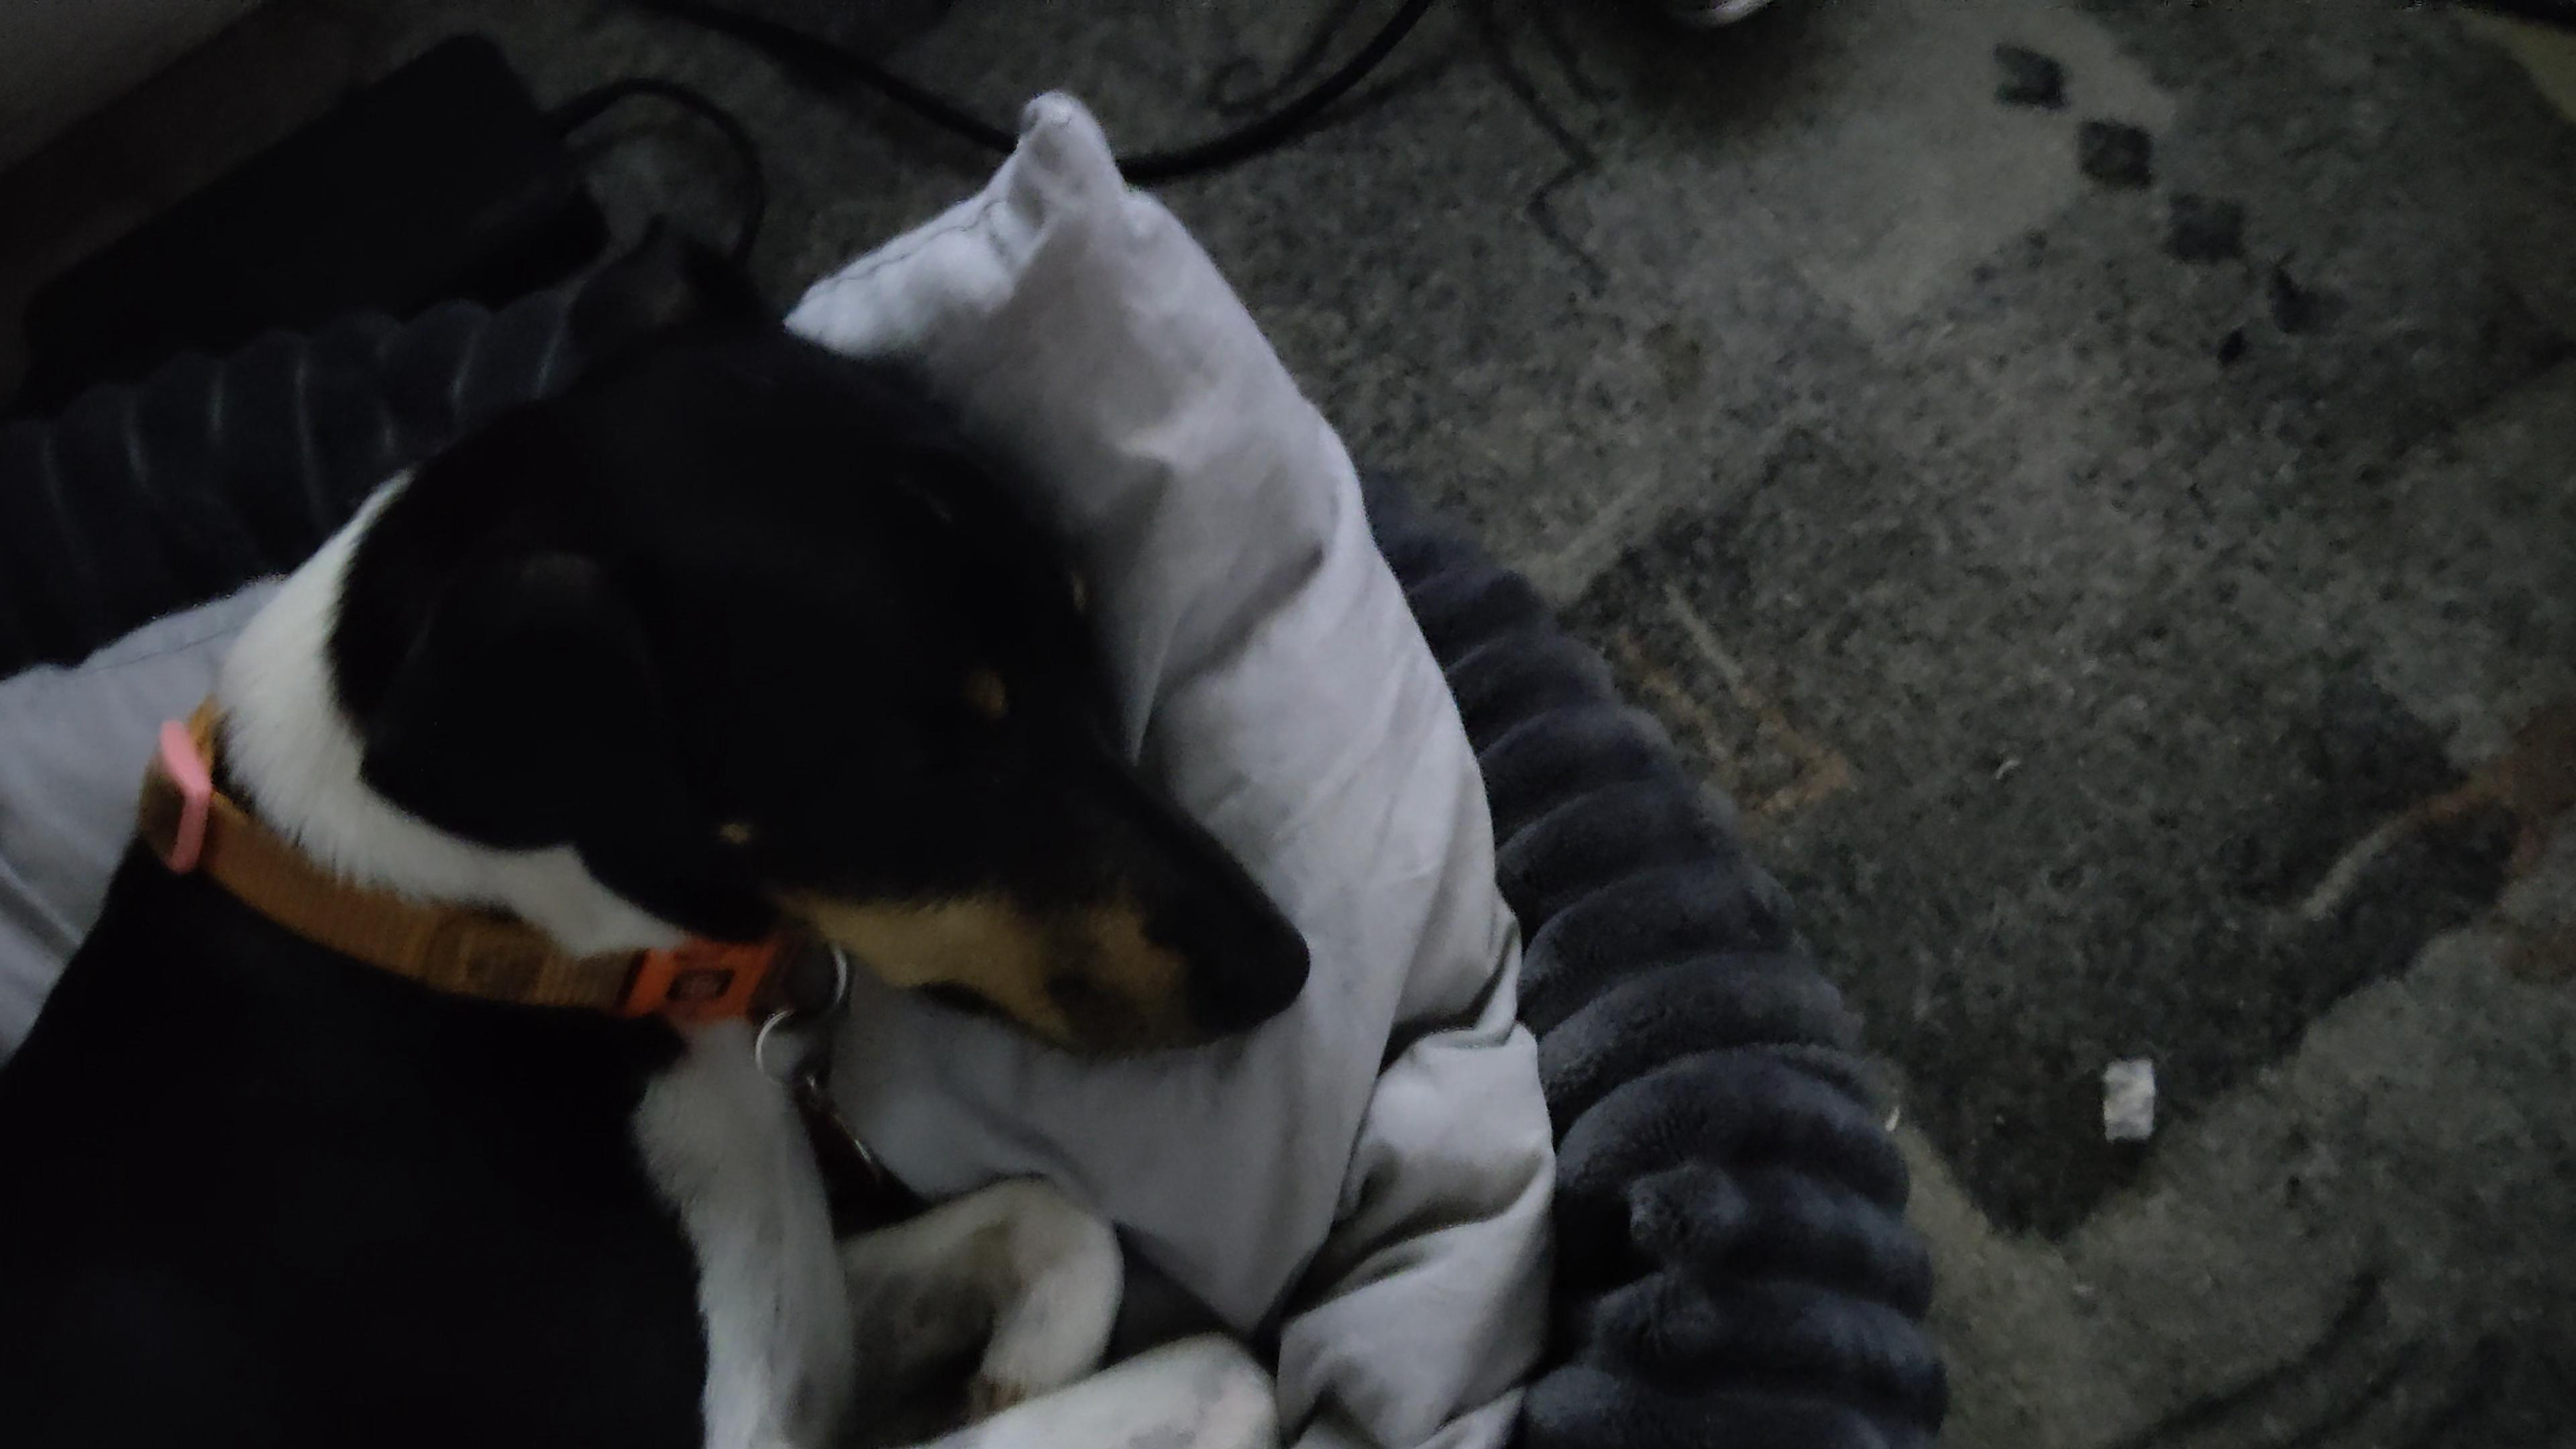Dog: (0, 214, 1338, 1449)
